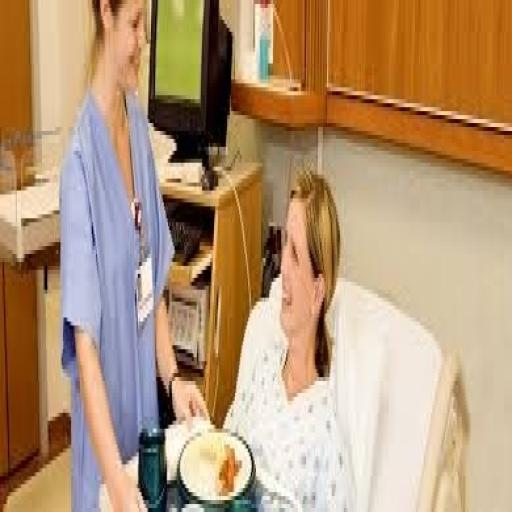eating: (58, 0, 210, 508)
